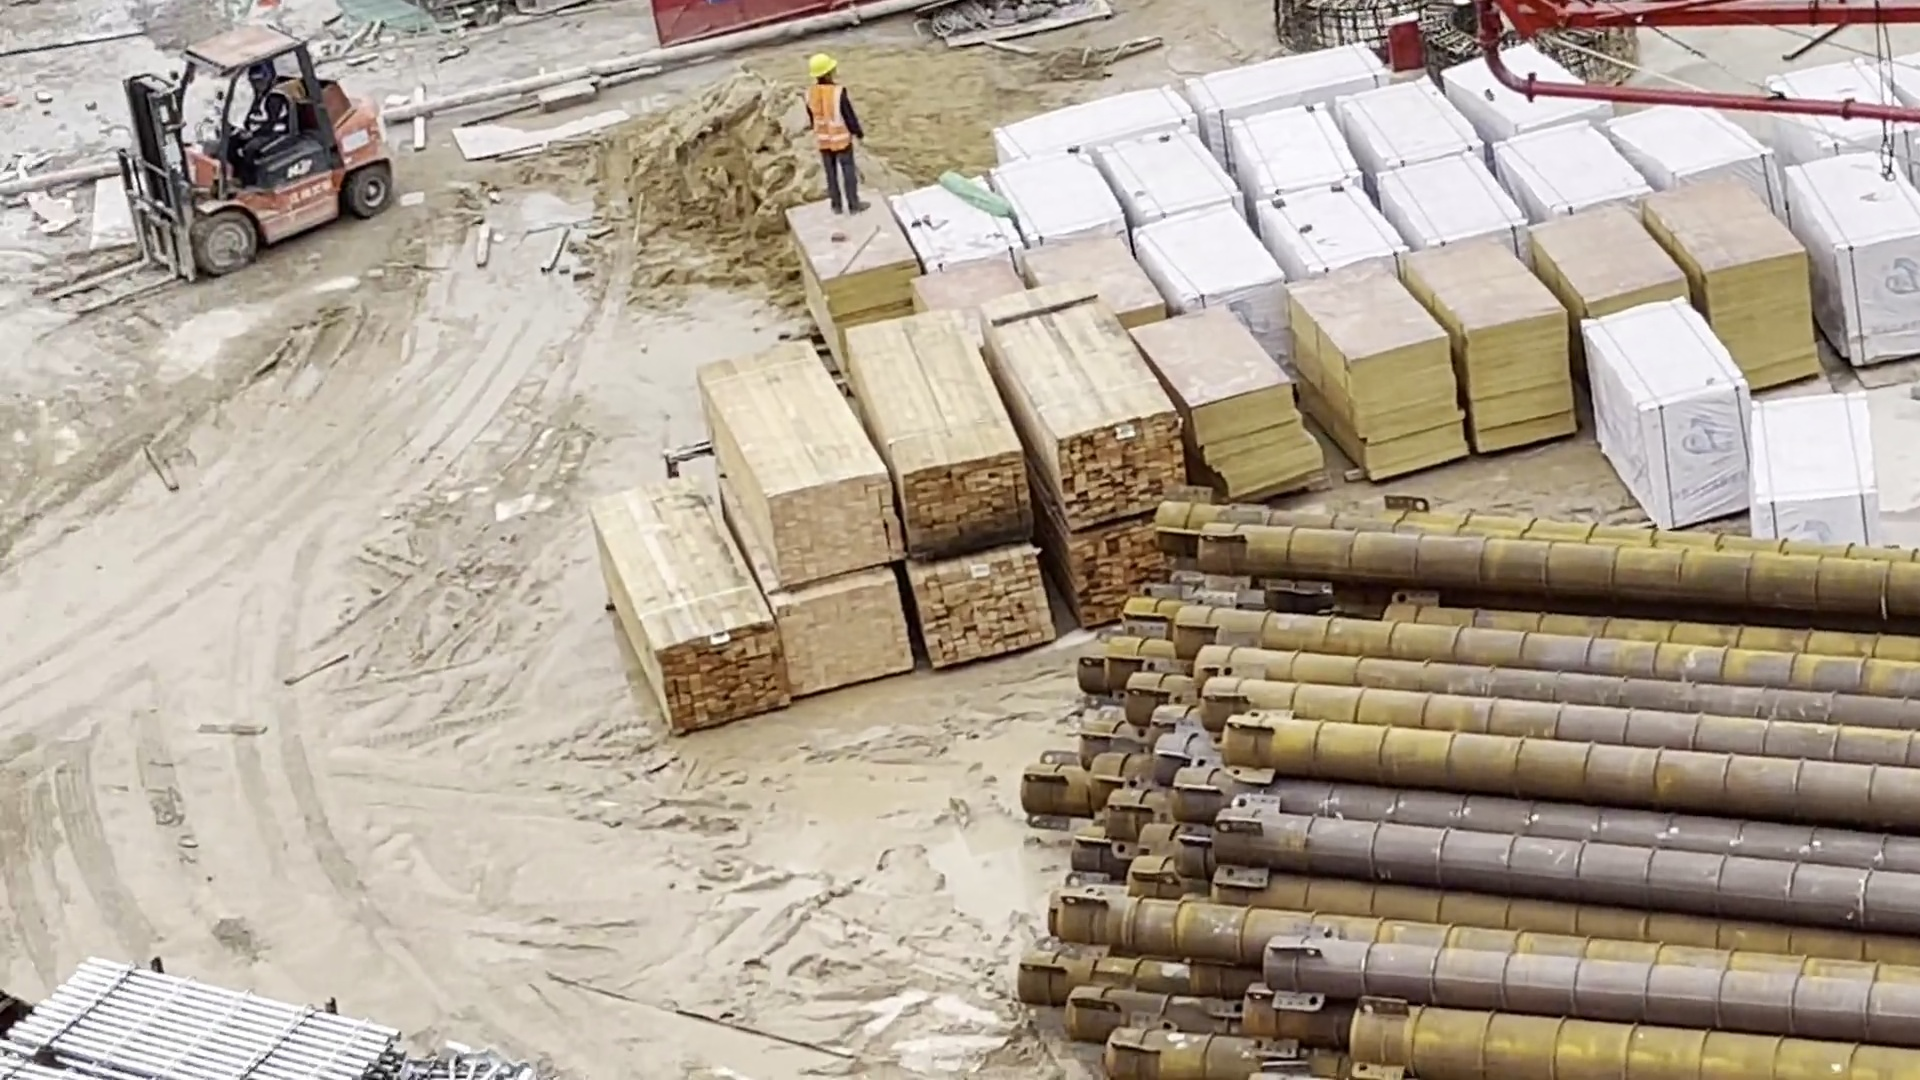board: (1299, 262, 1479, 480), (1149, 296, 1332, 499), (1415, 242, 1583, 456), (1640, 186, 1817, 387), (1541, 199, 1705, 305), (786, 196, 914, 324)
helmet: (804, 53, 841, 80)
person: (801, 52, 878, 228)
vest: (803, 87, 858, 153)
wood: (691, 353, 910, 689), (859, 332, 1065, 654), (1006, 308, 1191, 595), (599, 495, 786, 712)
